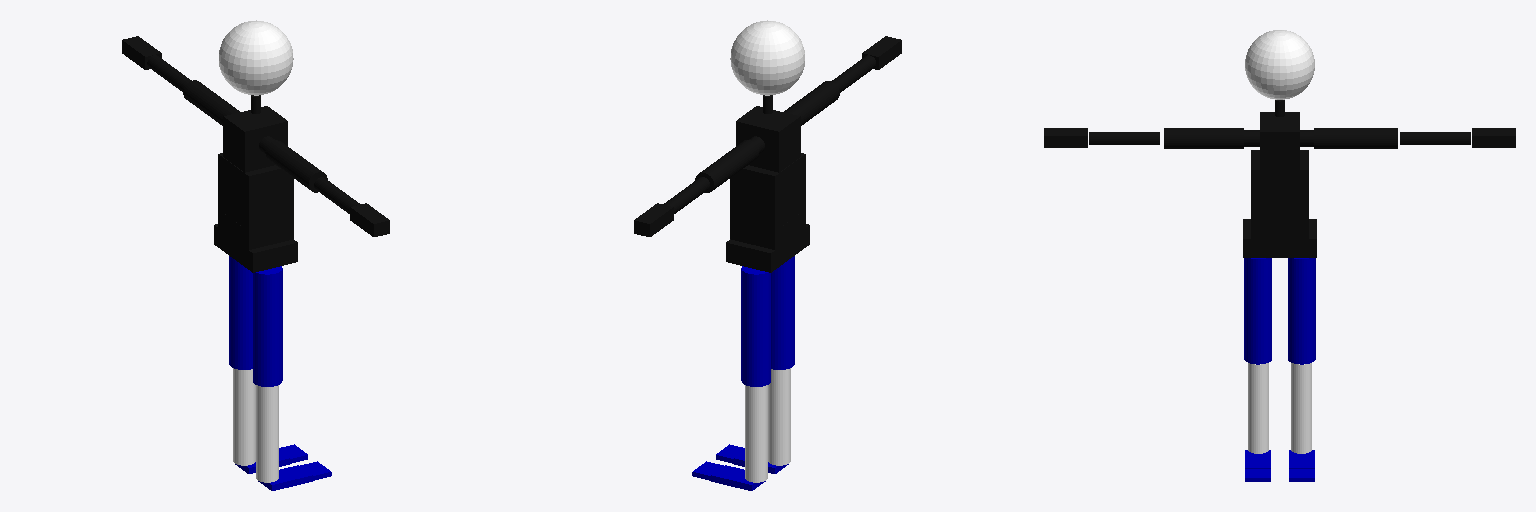
--- Render facts (derived) ---
Views: 3 orthographic renders of the robot side by side, from view 1: azimuth 30°, elevation 25°; view 2: azimuth 150°, elevation 25°; view 3: azimuth 270°, elevation 25°.
Model XSensStyleModel_template with 50 links and 49 joints (48 revolute, 1 fixed), rooted at world, posed every joint at zero.
Links seen in each view (by area): view 1: Head, RightUpperLeg, T8, LeftUpperLeg, T12, RightLowerLeg, LeftLowerLeg, L3, L5, Pelvis, RightUpperArm, LeftUpperArm (+5 smaller); view 2: Head, LeftUpperLeg, T8, RightUpperLeg, T12, LeftLowerLeg, RightLowerLeg, L3, Pelvis, L5, LeftUpperArm, RightUpperArm (+5 smaller); view 3: Head, RightUpperLeg, LeftUpperLeg, T8, T12, RightLowerLeg, LeftLowerLeg, LeftUpperArm, Pelvis, RightUpperArm, L3, RightForeArm (+4 smaller).
Link boxes in pixels (x1,y1,x2,y2): Head: (219, 20, 293, 95); RightUpperLeg: (253, 266, 282, 386); T8: (223, 106, 287, 172); LeftUpperLeg: (229, 256, 252, 369); T12: (218, 153, 293, 204); RightLowerLeg: (256, 385, 278, 482); LeftLowerLeg: (233, 368, 255, 465); L3: (218, 183, 293, 233); L5: (218, 209, 293, 256); Pelvis: (214, 224, 297, 272); RightUpperArm: (265, 140, 327, 192); LeftUpperArm: (183, 80, 239, 125); Head: (730, 20, 804, 95); LeftUpperLeg: (741, 266, 770, 386); T8: (736, 106, 800, 172); RightUpperLeg: (771, 256, 794, 369); T12: (730, 153, 805, 204); LeftLowerLeg: (745, 385, 767, 482); RightLowerLeg: (768, 368, 790, 465); L3: (730, 183, 805, 234); Pelvis: (726, 224, 809, 272); L5: (730, 209, 805, 256); LeftUpperArm: (695, 140, 758, 192); RightUpperArm: (784, 81, 839, 125); Head: (1245, 30, 1314, 99); RightUpperLeg: (1244, 258, 1271, 364); LeftUpperLeg: (1288, 258, 1315, 364); T8: (1260, 112, 1299, 169); T12: (1251, 150, 1308, 196); RightLowerLeg: (1248, 363, 1268, 453); LeftLowerLeg: (1291, 363, 1311, 453); LeftUpperArm: (1314, 128, 1397, 148); Pelvis: (1243, 219, 1316, 257); RightUpperArm: (1164, 128, 1243, 148); L3: (1251, 197, 1308, 224); RightForeArm: (1089, 132, 1159, 144).
Size in the robot's own frame: 0.2748 by 1.34 by 1.33 metres.
Geometry: primitives only (box / cylinder / sphere), no mesh files.

URDF robot description (XSensStyleModel_template):
<!--URDF MODEL 48 DoFs-->

<!-- COTE GAUCHE ET DROITE DU BAS DU CORPS SONT INVERSES (ou pas)!!!! -->

<robot name="XSensStyleModel_template">

<material name="color">
    <color rgba="0.1 0.1 0.1 1"/>
</material>

<material name="blue">
    <color rgba="0 0 0.8 1"/>
</material>

<material name="red_transparency">
     <color rgba="1 0 0 0.5"/>              
</material>

<material name="white">
             <color rgba="1 1 1 1"/>
           </material>
<!--To open this model with Gazebo replace the null masses, inertias and dimensions of the 'fake links f1 and f2'-->

    <!--LINKS-->
    ################### AJOUT DU MONDE #################
    <link name="world"/>
    <joint name="joint_base" type="fixed">
    <origin xyz="0 0 0" rpy="0 0 0"/>
    <parent link="world"/>
    <child link="Pelvis"/>
    </joint>
    ######################################################
	<!--Link base (1)-->
	<link name="Pelvis">
        <inertial>
            <mass value="2.109"/>
			<!--COM origin wrt pHipOrigin-->
            <origin xyz="0           0    0.049743" rpy="0 0 0" />
            <inertia ixx="0.037" iyy="0.0027" izz="0.0045" ixy="0" ixz="0" iyz="0"/>
        </inertial>

        <visual>
			<!--box origin wrt pHipOrigin-->
            <origin xyz="0           0    0.049743" rpy="0 0 0" />
            <geometry>
                <box size="0.13815     0.20914    0.057469"/>
            </geometry>
            <material name="color"/>
        </visual>

        <collision>
			<!--box origin wrt pHipOrigin-->
            <origin xyz="0           0    0.049743" rpy="0 0 0" />
            <geometry>
                <box size="0.13815     0.20914    0.057469"/>
            </geometry>
        </collision>

    </link>
    <!--Chain from (2) to (7)-->
	<link name="L5_f1">
        <inertial>
            <mass value="0"/>
            <origin xyz="0 0 0" rpy="0 0 0" />
            <inertia ixx="0" iyy="0" izz="0" ixy="0" ixz="0" iyz="0"/>
        </inertial>
    </link>
	<link name="L5">
        <inertial>
            <mass value="1.5"/>
			<!--COM origin wrt jL5S1-->
            <origin xyz="0           0    0.047552" rpy="0 0 0" />
            <inertia ixx="0.1118" iyy="0.0715" izz="0.1609" ixy="0" ixz="0" iyz="0"/>
        </inertial>

        <visual>
			<!--box origin origin wrt jL5S1-->
            <origin xyz="0           0    0.047552" rpy="0 0 0" />
            <geometry>
                <box size="0.13815     0.16323    0.075104"/>
            </geometry>
            <material name="color"/>
        </visual>

        <collision>
			<!--box origin origin wrt jL5S1-->
            <origin xyz="0           0    0.047552" rpy="0 0 0" />
            <geometry>
                <box size="0.13815     0.16323    0.075104"/>
            </geometry>
        </collision>
    </link>
	<link name="L3_f1">
        <inertial>
            <mass value="0"/>
            <origin xyz="0 0 0" rpy="0 0 0" />
            <inertia ixx="0" iyy="0" izz="0" ixy="0" ixz="0" iyz="0"/>
        </inertial>
    </link>
	<link name="L3">
        <inertial>
            <mass value="1.5"/>
			<!--COM origin wrt jL4L3-->
            <origin xyz="0           0    0.042958" rpy="0 0 0" />
            <inertia ixx="0.1118" iyy="0.0715" izz="0.1609" ixy="0" ixz="0" iyz="0"/>
        </inertial>

        <visual>
			<!--box origin origin wrt jL4L3-->
            <origin xyz="0           0    0.042958" rpy="0 0 0" />
            <geometry>
                <box size="0.13815     0.16323    0.085916"/>
            </geometry>
            <material name="color"/>
        </visual>

        <collision>
			<!--box origin origin wrt jL4L3-->
            <origin xyz="0           0    0.042958" rpy="0 0 0" />
            <geometry>
                <box size="0.13815     0.16323    0.085916"/>
            </geometry>
        </collision>
    </link>
	<link name="T12_f1">
        <inertial>
            <mass value="0"/>
            <origin xyz="0 0 0" rpy="0 0 0" />
            <inertia ixx="0" iyy="0" izz="0" ixy="0" ixz="0" iyz="0"/>
        </inertial>
    </link>
	<link name="T12">
        <inertial>
            <mass value="1.5"/>
			<!--COM origin wrt jL1T12-->
            <origin xyz="0           0    0.042958" rpy="0 0 0" />
            <inertia ixx="0.1118" iyy="0.0715" izz="0.1609" ixy="0" ixz="0" iyz="0"/>
        </inertial>

        <visual>
			<!--box origin origin wrt jL1T12-->
            <origin xyz="0           0    0.042958" rpy="0 0 0" />
            <geometry>
                <box size="0.13815     0.16323    0.085916"/>
            </geometry>
            <material name="color"/>
        </visual>

        <collision>
			<!--box origin origin wrt jL1T12-->
            <origin xyz="0           0    0.042958" rpy="0 0 0" />
            <geometry>
                <box size="0.13815     0.16323    0.085916"/>
            </geometry>
        </collision>
    </link>
	<link name="T8_f1">
        <inertial>
            <mass value="0"/>
            <origin xyz="0 0 0" rpy="0 0 0" />
            <inertia ixx="0" iyy="0" izz="0" ixy="0" ixz="0" iyz="0"/>
        </inertial>
    </link>
	<link name="T8_f2">
        <inertial>
            <mass value="0"/>
            <origin xyz="0 0 0" rpy="0 0 0" />
            <inertia ixx="0" iyy="0" izz="0" ixy="0" ixz="0" iyz="0"/>
        </inertial>
    </link>
	<link name="T8">
        <inertial>
            <mass value="2.109"/>
			<!--COM origin wrt jT9T8-->
            <origin xyz="0           0    0.059874" rpy="0 0 0" />
            <inertia ixx="0.0037" iyy="0.0029" izz="0.0026" ixy="0" ixz="0" iyz="0"/>
        </inertial>

        <visual>
			<!--box origin wrt jT9T8-->
            <origin xyz="0           0    0.059874" rpy="0 0 0" />
            <geometry>
                <box size="0.13457    0.112626     0.11975"/>
            </geometry>
            <material name="color"/>
        </visual>

        <collision>
			<!--box origin wrt jT9T8-->
            <origin xyz="0           0    0.059874" rpy="0 0 0" />
            <geometry>
                <box size="0.13457    0.112626     0.11975"/>
            </geometry>
        </collision>

    </link>
	<link name="Neck_f1">
        <inertial>
            <mass value="0"/>
            <origin xyz="0 0 0" rpy="0 0 0" />
            <inertia ixx="0" iyy="0" izz="0" ixy="0" ixz="0" iyz="0"/>
        </inertial>
    </link>
	<link name="Neck_f2">
        <inertial>
            <mass value="0"/>
            <origin xyz="0 0 0" rpy="0 0 0" />
            <inertia ixx="0" iyy="0" izz="0" ixy="0" ixz="0" iyz="0"/>
        </inertial>
    </link>
	<link name="Neck">
        <inertial>
            <mass value="0.500"/>
			<!--COM origin wrt jT1C7-->
            <origin xyz="0           0    0.044626" rpy="0 0 0" />
            <inertia ixx="0.0006461" iyy="0.0006461" izz="0.00030124" ixy="0" ixz="0" iyz="0"/>
        </inertial>

        <visual>
			<!--box origin wrt jT1C7-->
            <origin xyz="0           0    0.044626" rpy="0 0 0" />
            <geometry>
		<cylinder length="0.05" radius="0.014205"/>
            </geometry>
            <material name="color"/>
        </visual>

        <collision>
			<!--box origin wrt jT1C7-->
            <origin xyz="0           0    0.044626" rpy="0 0 0" />
            <geometry>
                <cylinder length="0.05" radius="0.014205"/>
            </geometry>
        </collision>
    </link>
	<link name="Head_f1">
        <inertial>
            <mass value="0"/>
            <origin xyz="0 0 0" rpy="0 0 0" />
            <inertia ixx="0" iyy="0" izz="0" ixy="0" ixz="0" iyz="0"/>
        </inertial>
    </link>
	<link name="Head">
        <inertial>
            <mass value="2.47"/>
			<!--COM origin wrt jC1Head-->
            <origin xyz="0           0    0.089005" rpy="0 0 0" />
            <inertia ixx="0.0181" iyy="0.0193" izz="0.0124" ixy="0" ixz="0" iyz="0"/>
        </inertial>

        <visual>
			<!--boc origin wrt jC1Head-->
            <origin xyz="0           0    0.089005" rpy="0 0 0" />
            <geometry>
                <sphere radius="0.1"/>
            </geometry>
            <material name="white"/>
        </visual>

        <collision>
			<!--box origin wrt jC1Head-->
            <origin xyz="0           0    0.089005" rpy="0 0 0" />
            <geometry>
                <sphere radius="0.1"/>
            </geometry>
        </collision>

    </link>
	<!--Chain from (8) to (11)-->
	<link name="RightShoulder">
        <inertial>
            <mass value="0"/>
			<!--COM origin wrt jRightC7Shoulder-->
            <origin xyz="0   -0.065233           0" rpy="0 0 0" />
            <inertia ixx="0.0" iyy="0.0" izz="0.0" ixy="0" ixz="0" iyz="0"/>
        </inertial>

        <visual>
			<!--box origin wrt jRightC7Shoulder. RPY rotated of pi/2.-->
            <origin xyz="0   -0.02          0" rpy="1.5708 0 0" />
            <geometry>
                <cylinder length="0.13047" radius="0.023574"/>
            </geometry>
            <material name="color"/>
        </visual>

        <collision>
			<!--box origin wrt jRightC7Shoulder. RPY rotated of pi/2.-->
            <origin xyz="0   -0.02          0" rpy="1.5708 0 0" />
            <geometry>
                <cylinder length="0.13047" radius="0.023574"/>
            </geometry>
        </collision>

    </link>
	<link name="RightUpperArm_f1">
        <inertial>
            <mass value="0"/>
            <origin xyz="0 0 0" rpy="0 0 0" />
            <inertia ixx="0" iyy="0" izz="0" ixy="0" ixz="0" iyz="0"/>
        </inertial>
    </link>
	<link name="RightUpperArm_f2">
        <inertial>
            <mass value="0"/>
            <origin xyz="0 0 0" rpy="0 0 0" />
            <inertia ixx="0" iyy="0" izz="0" ixy="0" ixz="0" iyz="0"/>
        </inertial>
    </link>
    <link name="RightUpperArm">
        <inertial>
            <mass value="0.638"/>
			<!--COM origin wrt jRightShoulder-->
            <origin xyz="0    -0.09497          0" rpy="0 0 0" />
            <inertia ixx="0.003" iyy="0.003" izz="7.59e-04" ixy="0" ixz="0" iyz="0"/>
        </inertial>

        <visual>
			<!--box origin wrt jRightShoulder. RPY rotated of pi/2.-->
            <origin xyz="0    -0.09497          0" rpy="1.5708 0 0" />
            <geometry>
                <cylinder length="0.23" radius="0.029449"/>
            </geometry>
            <material name="color"/>
        </visual>

        <collision>
			<!--box origin wrt jRightShoulder. RPY rotated of pi/2.-->
            <origin xyz="0    -0.13497           0" rpy="1.5708 0 0" />
            <geometry>
                <cylinder length="0.23" radius="0.029449"/>
            </geometry>
        </collision>

    </link>
	<link name="RightForeArm_f1">
        <inertial>
            <mass value="0"/>
            <origin xyz="0 0 0" rpy="0 0 0" />
            <inertia ixx="0" iyy="0" izz="0" ixy="0" ixz="0" iyz="0"/>
        </inertial>
    </link>
	<link name="RightForeArm">
        <inertial>
            <mass value="0.352"/>
			<!--COM origin wrt jRightElbow-->
            <origin xyz="0    -0.11124           0" rpy="0 0 0" />
            <inertia ixx="0.001" iyy="8.8e-4" izz="2.75e-4" ixy="0" ixz="0" iyz="0"/>
        </inertial>

        <visual>
			<!--box origin wrt jRightElbow. RPY rotated of pi/2.-->
            <origin xyz="0    -0.11124           0" rpy="1.5708 0 0" />
            <geometry>
                <cylinder length="0.20" radius="0.019633"/>
            </geometry>
            <material name="color"/>
        </visual>

        <collision>
			<!--box origin wrt jRightElbow. RPY rotated of pi/2.-->
            <origin xyz="0    -0.11124           0" rpy="1.5708 0 0" />
            <geometry>
                <cylinder length="0.20" radius="0.019633"/>
            </geometry>
        </collision>

    </link>
	<link name="RightHand_f1">
        <inertial>
            <mass value="0"/>
            <origin xyz="0 0 0" rpy="0 0 0" />
            <inertia ixx="0" iyy="0" izz="0" ixy="0" ixz="0" iyz="0"/>
        </inertial>
    </link>
	<link name="RightHand">
        <inertial>
            <mass value="0.176"/>
			<!--COM origin wrt jRightWrist-->
            <origin xyz="0   -0.083588           0" rpy="0 0 0" />
            <inertia ixx="0.0011" iyy="9.57e-4" izz="5.08e-4" ixy="0" ixz="0" iyz="0"/>
        </inertial>

        <visual>
			<!--box origin wrt jRightWrist-->
            <origin xyz="0   -0.083588           0" rpy="0 0 0" />
            <geometry>
                <box size="0.05     0.125    0.039266"/>
            </geometry>
            <material name="color"/>
        </visual>

        <collision>
			<!--box origin wrt jRightWrist-->
            <origin xyz="0   -0.083588           0" rpy="0 0 0" />
            <geometry>
                <box size="0.05     0.125   0.039266"/>
            </geometry>
        </collision>

    </link>
	<!--Chain from (12) to (15)-->
	<link name="LeftShoulder">
        <inertial>
            <mass value="0"/>
			<!--COM origin wrt jLeftC7Shoulder-->
            <origin xyz="0    0.065233           0" rpy="0 0 0" />
            <inertia ixx="0.0" iyy="0.00" izz="0.00" ixy="0" ixz="0" iyz="0"/>
        </inertial>

        <visual>
			<!--box origin wrt jLeftC7Shoulder. RPY rotated of pi/2.-->
            <origin xyz="0    0.02           0" rpy="1.5708 0 0" />
            <geometry>
                <cylinder length="0.13047" radius="0.023574"/>
            </geometry>
            <material name="color"/>
        </visual>

        <collision>
			<!--box origin wrt jLeftC7Shoulder. RPY rotated of pi/2.-->
            <origin xyz="0    0.02          0" rpy="1.5708 0 0" />
            <geometry>
                <cylinder length="0.13047" radius="0.023574"/>
            </geometry>
        </collision>

    </link>
	<link name="LeftUpperArm_f1">
        <inertial>
            <mass value="0"/>
            <origin xyz="0 0 0" rpy="0 0 0" />
            <inertia ixx="0" iyy="0" izz="0" ixy="0" ixz="0" iyz="0"/>
        </inertial>
    </link>
	<link name="LeftUpperArm_f2">
        <inertial>
            <mass value="0"/>
            <origin xyz="0 0 0" rpy="0 0 0" />
            <inertia ixx="0" iyy="0" izz="0" ixy="0" ixz="0" iyz="0"/>
        </inertial>
    </link>
	<link name="LeftUpperArm">
        <inertial>
            <mass value="0.639"/>
			<!--COM origin wrt jLeftShoulder-->
            <origin xyz="0     0.09497           0" rpy="0 0 0" />
            <inertia ixx="0.003" iyy="0.003" izz="7.59e-04" ixy="0" ixz="0" iyz="0"/>
        </inertial>

        <visual>
			<!--box origin wrt jLeftShoulder. RPY rotated of pi/2.-->
            <origin xyz="0     0.09497           0" rpy="1.5708 0 0" />
            <geometry>
                <cylinder length="0.23994" radius="0.029449"/>
            </geometry>
            <material name="color"/>
        </visual>

        <collision>
			<!--box origin wrt jLeftShoulder. RPY rotated of pi/2.-->
            <origin xyz="0     0.13497           0" rpy="1.5708 0 0" />
            <geometry>
                <cylinder length="0.23994" radius="0.029449"/>
            </geometry>
        </collision>

    </link>
	<link name="LeftForeArm_f1">
        <inertial>
            <mass value="0"/>
            <origin xyz="0 0 0" rpy="0 0 0" />
            <inertia ixx="0" iyy="0" izz="0" ixy="0" ixz="0" iyz="0"/>
        </inertial>
    </link>
	<link name="LeftForeArm">
        <inertial>
            <mass value="0.352"/>
			<!--COM origin wrt jLeftElbow-->
            <origin xyz="0     0.11124           0" rpy="0 0 0" />
            <inertia ixx="0.001" iyy="8.8e-4" izz="2.75e-4" ixy="0" ixz="0" iyz="0"/>
        </inertial>

        <visual>
			<!--box origin wrt jLeftElbow. RPY rotated of pi/2.-->
            <origin xyz="0     0.11124           0" rpy="1.5708 0 0" />
            <geometry>
                <cylinder length="0.20247" radius="0.019633"/>
            </geometry>
            <material name="color"/>
        </visual>

        <collision>
			<!--box origin wrt jLeftElbow. RPY rotated of pi/2.-->
            <origin xyz="0     0.11124           0" rpy="1.5708 0 0" />
            <geometry>
                <cylinder length="0.20247" radius="0.019633"/>
            </geometry>
        </collision>

    </link>
	<link name="LeftHand_f1">
        <inertial>
            <mass value="0"/>
            <origin xyz="0 0 0" rpy="0 0 0" />
            <inertia ixx="0" iyy="0" izz="0" ixy="0" ixz="0" iyz="0"/>
        </inertial>
    </link>
	<link name="LeftHand">
        <inertial>
            <mass value="0.176"/>
			<!--COM origin wrt jLeftWrist-->
            <origin xyz="0    0.083588           0" rpy="0 0 0" />
            <inertia ixx="0.0011" iyy="9.57e-4" izz="5.08e-4" ixy="0" ixz="0" iyz="0"/>
        </inertial>

        <visual>
			<!--COM origin wrt jLeftWrist-->
            <origin xyz="0    0.083588           0" rpy="0 0 0" />
            <geometry>
                <box size="0.05     0.125    0.039266"/>
            </geometry>
            <material name="color"/>
        </visual>

        <collision>
			<!--COM origin wrt jLeftWrist-->
            <origin xyz="0    0.083588           0" rpy="0 0 0" />
            <geometry>
                <box size="0.05    0.125    0.039266"/>
            </geometry>
        </collision>

    </link>
	<!--Chain from (16) to (19)-->
	<link name="RightUpperLeg_f1">
        <inertial>
            <mass value="0"/>
            <origin xyz="0 0 0" rpy="0 0 0" />
            <inertia ixx="0" iyy="0" izz="0" ixy="0" ixz="0" iyz="0"/>
        </inertial>
    </link>
	<link name="RightUpperLeg_f2">
        <inertial>
            <mass value="0"/>
            <origin xyz="0 0 0" rpy="0 0 0" />
            <inertia ixx="0" iyy="0" izz="0" ixy="0" ixz="0" iyz="0"/>
        </inertial>
    </link>
    <link name="RightUpperLeg">
        <inertial>
            <mass value="1.98"/>
			<!--COM origin wrt jRightHip-->
            <origin xyz="0           0    -0.16449" rpy="0 0 0" />
            <inertia ixx="0.0207" iyy="0.0221" izz="0.0078" ixy="0" ixz="0" iyz="0"/>
        </inertial>

        <visual>
			<!--box origin wrt jRightHip-->
            <origin xyz="0           0.02    -0.16449" rpy="0 0 0" />
            <geometry>
                <cylinder length="0.33" radius="0.04"/>
            </geometry>
            <material name="blue"/>
        </visual>

        <collision>
			<!--box origin wrt jRightHip-->
            <origin xyz="0           0.02   -0.16449" rpy="0 0 0" />
            <geometry>
                <cylinder length="0.33" radius="0.04"/>
            </geometry>
        </collision>

    </link>
	<link name="RightLowerLeg_f1">
        <inertial>
            <mass value="1.078"/>
            <origin xyz="0 0 0" rpy="0 0 0" />
            <inertia ixx="0" iyy="0" izz="0" ixy="0" ixz="0" iyz="0"/>
        </inertial>
    </link>
    <link name="RightLowerLeg">
        <inertial>
            <mass value="2.2703"/>
			<!--COM origin wrt jRightKnee-->
            <origin xyz="0           0    -0.14449" rpy="0 0 0" />
            <inertia ixx="0.0066" iyy="0.0066" izz="8.45e-4" ixy="0" ixz="0" iyz="0"/>
        </inertial>

        <visual>
			<!--box origin wrt jRightKnee-->
            <origin xyz="0           0.02    -0.14449" rpy="0 0 0" />
            <geometry>
                <cylinder length="0.28" radius="0.03"/>
            </geometry>
             <material name="white">
              <color rgba="1 1 1 1"/>
           </material>
        </visual>

        <collision>
			<!--box origin wrt jRightKnee-->
            <origin xyz="0           0.02    -0.14449" rpy="0 0 0" />
            <geometry>
                <cylinder length="0.28" radius="0.03"/>
            </geometry>
        </collision>

    </link>
	<link name="RightFoot_f1">
        <inertial>
            <mass value="0"/>
            <origin xyz="0 0 0" rpy="0 0 0" />
            <inertia ixx="0" iyy="0" izz="0" ixy="0" ixz="0" iyz="0"/>
        </inertial>
    </link>
	<link name="RightFoot_f2">
        <inertial>
            <mass value="0"/>
            <origin xyz="0 0 0" rpy="0 0 0" />
            <inertia ixx="0" iyy="0" izz="0" ixy="0" ixz="0" iyz="0"/>
        </inertial>
    </link>
    <link name="RightFoot">
        <inertial>
            <mass value="0.44"/>
			<!--COM origin wrt jRightAnkle-->
            <origin xyz="0.054652           0   -0.028254" rpy="0 0 0" />
            <inertia ixx="0.001" iyy="0.0044" izz="0.0044" ixy="0" ixz="0" iyz="0"/>
        </inertial>

        <visual>
			<!--box origin wrt jRightAnkle-->
	    	<origin xyz="0.054652           0.02   -0.028254" rpy="0 0 0" />
            <geometry>
                <box size="0.125    0.074775    0.018509"/>
            </geometry>
            <material name="blue"/>
        </visual>

        <collision>
			<!--box origin wrt jRightAnkle-->
		    <origin xyz="0.054652           0.02   -0.028254" rpy="0 0 0" />
	            <geometry>
	                <box size="0.125    0.074775    0.018509"/>
	            </geometry>
        </collision>

    </link>
    <link name="RightToe">
        <inertial>
            <mass value="0.01"/>
			<!--COM origin wrt jRightBallFoot-->
            <origin xyz="0.030086           0           +0.012" rpy="0 0 0" />
            <inertia ixx="4.5038e-05" iyy="2.9717e-05" izz="7.1624e-05" ixy="0" ixz="0" iyz="0"/>
        </inertial>

        <visual>
			<!--box origin wrt jRightBallFoot-->
            <origin xyz="0.030086           0.02           +0.012" rpy="0 0 0" />
            <geometry>
                <box size="0.060173    0.074775    0.014191"/>
            </geometry>
            <material name="blue"/>
        </visual>

        <collision>
			<!--box origin wrt jRightBallFoot-->
            <origin xyz="0.030086           0.02           +0.012" rpy="0 0 0" />
            <geometry>
                <box size="0.060173    0.074775    0.014191"/>
            </geometry>
        </collision>
    </link>
	<!--Chain from (20) to (23)-->
	<link name="LeftUpperLeg_f1">
        <inertial>
            <mass value="0"/>
            <origin xyz="0 0 0" rpy="0 0 0" />
            <inertia ixx="0" iyy="0" izz="0" ixy="0" ixz="0" iyz="0"/>
        </inertial>
    </link>
	<link name="LeftUpperLeg_f2">
        <inertial>
            <mass value="0"/>
            <origin xyz="0 0 0" rpy="0 0 0" />
            <inertia ixx="0" iyy="0" izz="0" ixy="0" ixz="0" iyz="0"/>
        </inertial>
    </link>
    <link name="LeftUpperLeg">
        <inertial>
            <mass value="1.98"/>
			<!--COM origin wrt jLeftHip-->
            <origin xyz="0           0    -0.16449" rpy="0 0 0" />
            <inertia ixx="0.0207" iyy="0.0221" izz="0.0078" ixy="0" ixz="0" iyz="0"/>
        </inertial>

        <visual>
			<!--box origin wrt jLeftHip-->
            <origin xyz="0           -.02    -0.16449" rpy="0 0 0" />
            <geometry>
                <cylinder length="0.33" radius="0.04"/>
            </geometry>
            <material name="blue"/>
        </visual>

        <collision>
			<!--box origin wrt jLeftHip-->
            <origin xyz="0           -.02    -0.16449" rpy="0 0 0" />
            <geometry>
                <cylinder length="0.33" radius="0.04"/>
            </geometry>
        </collision>

    </link>
	<link name="LeftLowerLeg_f1">
        <inertial>
            <mass value="0"/>
            <origin xyz="0 0 0" rpy="0 0 0" />
            <inertia ixx="0" iyy="0" izz="0" ixy="0" ixz="0" iyz="0"/>
        </inertial>
    </link>
	<link name="LeftLowerLeg">
        <inertial>
            <mass value="1.078"/>
			<!--COM origin wrt jLeftKnee-->
            <origin xyz="0           0    -0.14449" rpy="0 0 0" />
            <inertia ixx="0.0066" iyy="0.0066" izz="8.45e-4" ixy="0" ixz="0" iyz="0"/>
        </inertial>

        <visual>
			<!--box origin wrt jLeftKnee-->
            <origin xyz="0           -.02    -0.14449" rpy="0 0 0" />
            <geometry>
		<cylinder length="0.28" radius="0.03"/>
            </geometry>
            <material name="white"/>
        </visual>

        <collision>
			<!--box origin wrt jLeftKnee-->
            <origin xyz="0           -.02    -0.14449" rpy="0 0 0" />
            <geometry>
		<cylinder length="0.28" radius="0.03"/>
            </geometry>
        </collision>

    </link>
	<link name="LeftFoot_f1">
        <inertial>
            <mass value="0"/>
            <origin xyz="0 0 0" rpy="0 0 0" />
            <inertia ixx="0" iyy="0" izz="0" ixy="0" ixz="0" iyz="0"/>
        </inertial>
    </link>
	<link name="LeftFoot_f2">
        <inertial>
            <mass value="0"/>
            <origin xyz="0 0 0" rpy="0 0 0" />
            <inertia ixx="0" iyy="0" izz="0" ixy="0" ixz="0" iyz="0"/>
        </inertial>
    </link>
    <link name="LeftFoot">
        <inertial>
            <mass value="0.44"/>
			<!--COM origin wrt jLeftAnkle-->
            <origin xyz="0.054652           0   -0.028254" rpy="0 0 0" />
            <inertia ixx="0.001" iyy="0.0044" izz="0.0044" ixy="0" ixz="0" iyz="0"/>
        </inertial>

        <visual>
			<!--box origin wrt jLeftAnkle-->
	   	 	<origin xyz="0.054652           -.02   -0.028254" rpy="0 0 0" />
            <geometry>
                <box size="0.125    0.074775    0.018509"/>
            </geometry>
            <material name="blue"/>
        </visual>

        <collision>
			<!--box origin wrt jLeftAnkle-->
		    <origin xyz="0.054652           -.02   -0.028254" rpy="0 0 0" />
	            <geometry>
	                <box size="0.125    0.074775    0.018509"/>
	            </geometry>
        </collision>

    </link>
	<link name="LeftToe">
        <inertial>
            <mass value="0.01"/>
			<!--COM origin wrt jLeftBallFoot-->
            <origin xyz="0.030086           0           +0.012" rpy="0 0 0" />
            <inertia ixx="4.5038e-05" iyy="2.9717e-05" izz="7.1624e-05" ixy="0" ixz="0" iyz="0"/>
        </inertial>

        <visual>
			<!--box origin wrt jLeftBallFoot-->
            <origin xyz="0.030086           -.02           +0.012" rpy="0 0 0" />
            <geometry>
                <box size="0.060173    0.074775    0.014191"/>
            </geometry>
            <material name="blue"/>
        </visual>

        <collision>
			<!--box origin wrt jLeftBallFoot-->
            <origin xyz="0.030086           -.02           +0.012" rpy="0 0 0" />
            <geometry>
                <box size="0.060173    0.074775    0.014191"/>
            </geometry>
        </collision>
    </link>


	<!--JOINTS-->
	<!--Chain from (2) to (7)-->
	<joint name="jL5S1_rotx" type="revolute">
        <origin xyz="-0.000206           0    0.048478" rpy="0 0 0"/>
        <parent link="Pelvis"/>
        <child link="L5_f1"/>
        <dynamics damping="0.1" friction="0.0"/>
        <limit effort="30" velocity="1.0" lower="-0.610865" upper="0.610865" />
        <axis xyz="1 0 0" />
    </joint>
	<joint name="jL5S1_roty" type="revolute">
        <origin xyz="0 0 0" rpy="0 0 0"/>
        <parent link="L5_f1"/>
        <child link="L5"/>
        <dynamics damping="0.1" friction="0.0"/>
        <limit effort="30" velocity="1.0" lower="-0.523599" upper="1.309" />
        <axis xyz="0 1 0" />
    </joint>
	<joint name="jL4L3_rotx" type="revolute">
        <origin xyz="0.000374           0    0.075104" rpy="0 0 0"/>
        <parent link="L5"/>
        <child link="L3_f1"/>
        <dynamics damping="0.1" friction="0.0"/>
        <limit effort="30" velocity="1.0" lower="-0.610865" upper="0.610865" />
        <axis xyz="1 0 0" />
    </joint>
	<joint name="jL4L3_roty" type="revolute">
        <origin xyz="0 0 0" rpy="0 0 0"/>
        <parent link="L3_f1"/>
        <child link="L3"/>
        <dynamics damping="0.1" friction="0.0"/>
        <limit effort="30" velocity="1.0" lower="-0.523599" upper="1.309" />
        <axis xyz="0 1 0" />
    </joint>
	<joint name="jL1T12_rotx" type="revolute">
        <origin xyz="0           0    0.085916" rpy="0 0 0"/>
        <parent link="L3"/>
        <child link="T12_f1"/>
        <dynamics damping="0.1" friction="0.0"/>
        <limit effort="30" velocity="1.0" lower="-0.610865" upper="0.610865" />
        <axis xyz="1 0 0" />
    </joint>
	<joint name="jL1T12_roty" type="revolute">
        <origin xyz="0 0 0" rpy="0 0 0"/>
        <parent link="T12_f1"/>
        <child link="T12"/>
        <dynamics damping="0.1" friction="0.0"/>
        <limit effort="30" velocity="1.0" lower="-0.523599" upper="1.309" />
        <axis xyz="0 1 0" />
    </joint>
	<joint name="jT9T8_rotx" type="revolute">
        <origin xyz="0           0    0.085916" rpy="0 0 0"/>
        <parent link="T12"/>
        <child link="T8_f1"/>
        <dynamics damping="0.1" friction="0.0"/>
        <limit effort="30" velocity="1.0" lower="-0.349066" upper="0.349066" />
        <axis xyz="1 0 0" />
    </joint>
	<joint name="jT9T8_roty" type="revolute">
        <origin xyz="0 0 0" rpy="0 0 0"/>
        <parent link="T8_f1"/>
        <child link="T8_f2"/>
        <dynamics damping="0.1" friction="0.0"/>
        <limit effort="30" velocity="1.0" lower="-0.261799" upper="0.698132" />
        <axis xyz="0 1 0" />
    </joint>
    <joint name="jT9T8_rotz" type="revolute">
        <origin xyz="0 0 0" rpy="0 0 0"/>
        <parent link="T8_f2"/>
        <child link="T8"/>
        <dynamics damping="0.1" friction="0.0"/>
        <limit effort="30" velocity="1.0" lower="-0.610865" upper="0.610865" />
        <axis xyz="0 0 1" />
    </joint>
	<joint name="jT1C7_rotx" type="revolute">
        <origin xyz="0           0     0.11975" rpy="0 0 0"/>
        <parent link="T8"/>
        <child link="Neck_f1"/>
        <dynamics damping="0.1" friction="0.0"/>
        <limit effort="30" velocity="1.0" lower="-0.610865" upper="0.610865" />
        <axis xyz="1 0 0" />
    </joint>
	<joint name="jT1C7_roty" type="revolute">
        <origin xyz="0 0 0" rpy="0 0 0"/>
        <parent link="Neck_f1"/>
        <child link="Neck_f2"/>
        <dynamics damping="0.1" friction="0.0"/>
        <limit effort="30" velocity="1.0" lower="-0.959931" upper="1.5708" />
        <axis xyz="0 1 0" />
    </joint>
    <joint name="jT1C7_rotz" type="revolute">
        <origin xyz="0 0 0" rpy="0 0 0"/>
        <parent link="Neck_f2"/>
        <child link="Neck"/>
        <dynamics damping="0.1" friction="0.0"/>
        <limit effort="30" velocity="1.0" lower="-1.22173" upper="1.22173" />
        <axis xyz="0 0 1" />
    </joint>
	<joint name="jC1Head_rotx" type="revolute">
        <origin xyz="0.000152           0    0.089252" rpy="0 0 0"/>
        <parent link="Neck"/>
        <child link="Head_f1"/>
        <dynamics damping="0.1" friction="0.0"/>
        <limit effort="30" velocity="1.0" lower="-0.610865" upper="0.610865" />
        <axis xyz="1 0 0" />
    </joint>
	<joint name="jC1Head_roty" type="revolute">
        <origin xyz="0 0 0" rpy="0 0 0"/>
        <parent link="Head_f1"/>
        <child link="Head"/>
        <dynamics damping="0.1" friction="0.0"/>
        <limit effort="30" velocity="1.0" lower="-0.436332" upper="0.174533" />
        <axis xyz="0 1 0" />
    </joint>
	<!--Chain from (8) to (11)-->
	<joint name="jRightC7Shoulder_rotx" type="revolute">
        <origin xyz="0   -0.026313    0.067052" rpy="0 0 0"/>
        <parent link="T8"/>
        <child link="RightShoulder"/>
        <dynamics damping="0.1" friction="0.0"/>
        <limit effort="30" velocity="1.0" lower="-0.785398" upper="0.0872665" />
        <axis xyz="1 0 0" />
    </joint>
	<joint name="jRightShoulder_rotx" type="revolute">
        <origin xyz="0    -0.09497          0" rpy="0 0 0"/>
        <parent link="RightShoulder"/>
        <child link="RightUpperArm_f1"/>
        <dynamics damping="0.1" friction="0.0"/>
        <limit effort="30" velocity="1.0" lower="-2.35619" upper="1.5708" />
        <axis xyz="1 0 0" />
    </joint>
	<joint name="jRightShoulder_roty" type="revolute">
        <origin xyz="0 0 0" rpy="0 0 0"/>
        <parent link="RightUpperArm_f1"/>
        <child link="RightUpperArm_f2"/>
        <dynamics damping="0.1" friction="0.0"/>
        <limit effort="30" velocity="1.0" lower="-1.5708" upper="1.5708" />
        <axis xyz="0 1 0" />
    </joint>
    <joint name="jRightShoulder_rotz" type="revolute">
        <origin xyz="0 0 0" rpy="0 0 0"/>
        <parent link="RightUpperArm_f2"/>
        <child link="RightUpperArm"/>
        <dynamics damping="0.1" friction="0.0"/>
        <limit effort="30" velocity="1.0" lower="-0.785398" upper="3.14159" />
        <axis xyz="0 0 1" />
    </joint>
	<joint name="jRightElbow_roty" type="revolute">
        <origin xyz="0    -0.20994           0" rpy="0 0 0"/>
        <parent link="RightUpperArm"/>
        <child link="RightForeArm_f1"/>
        <dynamics damping="0.1" friction="0.0"/>
        <limit effort="30" velocity="1.0" lower="-1.5708" upper="1.48353" />
        <axis xyz="0 1 0" />
    </joint>
	<joint name="jRightElbow_rotz" type="revolute">
        <origin xyz="0 0 0" rpy="0 0 0"/>
        <parent link="RightForeArm_f1"/>
        <child link="RightForeArm"/>
        <dynamics damping="0.1" friction="0.0"/>
        <limit effort="30" velocity="1.0" lower="0" upper="2.53073" />
        <axis xyz="0 0 1" />
    </joint>
	<joint name="jRightWrist_rotx" type="revolute">
        <origin xyz="7.7e-05    -0.19247           0" rpy="0 0 0"/>
        <parent link="RightForeArm"/>
        <child link="RightHand_f1"/>
        <dynamics damping="0.1" friction="0.0"/>
        <limit effort="30" velocity="1.0" lower="-0.872665" upper="1.0472" />
        <axis xyz="1 0 0" />
    </joint>
	<joint name="jRightWrist_rotz" type="revolute">
        <origin xyz="0 0 0" rpy="0 0 0"/>
        <parent link="RightHand_f1"/>
        <child link="RightHand"/>
        <dynamics damping="0.1" friction="0.0"/>
        <limit effort="30" velocity="1.0" lower="-0.523599" upper="0.349066" />
        <axis xyz="0 0 1" />
    </joint>
	<!--Chain from (12) to (15)-->
	<joint name="jLeftC7Shoulder_rotx" type="revolute">
        <origin xyz="0    0.026313    0.067052" rpy="0 0 0"/>
        <parent link="T8"/>
        <child link="LeftShoulder"/>
        <dynamics damping="0.1" friction="0.0"/>
        <limit effort="30" velocity="1.0" lower="-0.0872665" upper="0.785398" />
        <axis xyz="1 0 0" />
    </joint>
	<joint name="jLeftShoulder_rotx" type="revolute">
        <origin xyz="0     0.09497           0" rpy="0 0 0"/>
        <parent link="LeftShoulder"/>
        <child link="LeftUpperArm_f1"/>
        <dynamics damping="0.1" friction="0.0"/>
        <limit effort="30" velocity="1.0" lower="-1.5708" upper="2.35619" />
        <axis xyz="1 0 0" />
    </joint>
	<joint name="jLeftShoulder_roty" type="revolute">
        <origin xyz="0 0 0" rpy="0 0 0"/>
        <parent link="LeftUpperArm_f1"/>
        <child link="LeftUpperArm_f2"/>
        <dynamics damping="0.1" friction="0.0"/>
        <limit effort="30" velocity="1.0" lower="-1.5708" upper="1.5708" />
        <axis xyz="0 1 0" />
    </joint>
    <joint name="jLeftShoulder_rotz" type="revolute">
        <origin xyz="0 0 0" rpy="0 0 0"/>
        <parent link="LeftUpperArm_f2"/>
        <child link="LeftUpperArm"/>
        <dynamics damping="0.1" friction="0.0"/>
        <limit effort="30" velocity="1.0" lower="-3.14159" upper="0.785398" />
        <axis xyz="0 0 1" />
    </joint>
    <joint name="jLeftElbow_roty" type="revolute">
        <origin xyz="0     0.20994           0" rpy="0 0 0"/>
        <parent link="LeftUpperArm"/>
        <child link="LeftForeArm_f1"/>
        <dynamics damping="0.1" friction="0.0"/>
        <limit effort="30" velocity="1.0" lower="-1.5708" upper="1.48353" />
        <axis xyz="0 1 0" />
    </joint>
    <joint name="jLeftElbow_rotz" type="revolute">
        <origin xyz="0 0 0" rpy="0 0 0"/>
        <parent link="LeftForeArm_f1"/>
        <child link="LeftForeArm"/>
        <dynamics damping="0.1" friction="0.0"/>
        <limit effort="30" velocity="1.0" lower="-2.53073" upper="0" />
        <axis xyz="0 0 1" />
    </joint>
	<joint name="jLeftWrist_rotx" type="revolute">
        <origin xyz="7.7e-05     0.19247           0" rpy="0 0 0"/>
        <parent link="LeftForeArm"/>
        <child link="LeftHand_f1"/>
        <dynamics damping="0.1" friction="0.0"/>
        <limit effort="30" velocity="1.0" lower="-1.0472" upper="0.872665" />
        <axis xyz="1 0 0" />
    </joint>
	<joint name="jLeftWrist_rotz" type="revolute">
        <origin xyz="0 0 0" rpy="0 0 0"/>
        <parent link="LeftHand_f1"/>
        <child link="LeftHand"/>
        <dynamics damping="0.1" friction="0.0"/>
        <limit effort="30" velocity="1.0" lower="-0.349066" upper="0.523599" />
        <axis xyz="0 0 1" />
    </joint>
	<!--Chain from (16) to (19)-->
	<joint name="jRightHip_rotx" type="revolute">
        <origin xyz="0.000103   -0.081614    0.001009" rpy="0 0 0"/>
        <parent link="Pelvis"/>
        <child link="RightUpperLeg_f1"/>
        <dynamics damping="0.1" friction="0.0"/>
        <limit effort="10000000" velocity="100000" lower="-100000" upper="10000" />
        <axis xyz="1 0 0" />
    </joint>
	<joint name="jRightHip_roty" type="revolute">
        <origin xyz="0 0 0" rpy="0 0 0"/>
        <parent link="RightUpperLeg_f1"/>
        <child link="RightUpperLeg_f2"/>
        <dynamics damping="0.1" friction="0.0"/>
        <limit effort="10000000" velocity="100000" lower="-100000" upper="10000" />
        <axis xyz="0 1 0" />
    </joint>
    <joint name="jRightHip_rotz" type="revolute">
        <origin xyz="0 0 0" rpy="0 0 0"/>
        <parent link="RightUpperLeg_f2"/>
        <child link="RightUpperLeg"/>
        <dynamics damping="0.1" friction="0.0"/>
        <limit effort="10000000" velocity="100000" lower="-100000" upper="10000" />
        <axis xyz="0 0 1" />
    </joint>
	<joint name="jRightKnee_roty" type="revolute">
        <origin xyz="3.6e-05           0    -0.33" rpy="0 0 0"/>
        <parent link="RightUpperLeg"/>
        <child link="RightLowerLeg_f1"/>
        <dynamics damping="0.1" friction="0.0"/>
        <limit effort="10000000" velocity="100000" lower="-100000" upper="10000" />
        <axis xyz="0 1 0" />
    </joint>
	<joint name="jRightKnee_rotz" type="revolute">
        <origin xyz="0 0 0" rpy="0 0 0"/>
        <parent link="RightLowerLeg_f1"/>
        <child link="RightLowerLeg"/>
        <dynamics damping="0.1" friction="0.0"/>
        <limit effort="10000000" velocity="100000" lower="-100000" upper="10000" />
        <axis xyz="0 0 1" />
    </joint>
	<joint name="jRightAnkle_rotx" type="revolute">
        <origin xyz="0.000205           0    -0.27" rpy="0 0 0"/>
        <parent link="RightLowerLeg"/>
        <child link="RightFoot_f1"/>
        <dynamics damping="0.1" friction="0.0"/>
        <limit effort="10000000" velocity="100000" lower="-100000" upper="10000" />
        <axis xyz="1 0 0" />
    </joint>
	<joint name="jRightAnkle_roty" type="revolute">
        <origin xyz="0 0 0" rpy="0 0 0"/>
        <parent link="RightFoot_f1"/>
        <child link="RightFoot_f2"/>
        <dynamics damping="0.1" friction="0.0"/>
        <limit effort="10000000" velocity="100000" lower="-100000" upper="10000" />
        <axis xyz="0 1 0" />
    </joint>
    <joint name="jRightAnkle_rotz" type="revolute">
        <origin xyz="0 0 0" rpy="0 0 0"/>
        <parent link="RightFoot_f2"/>
        <child link="RightFoot"/>
        <dynamics damping="0.1" friction="0.0"/>
        <limit effort="10000000" velocity="100000" lower="-100000" upper="10000" />
        <axis xyz="0 0 1" />
    </joint>
	<joint name="jRightBallFoot_roty" type="revolute">
        <origin xyz="0.11456           0   -0.040752" rpy="0 0 0"/>
        <parent link="RightFoot"/>
        <child link="RightToe"/>
        <dynamics damping="0.1" friction="0.0"/>
        <limit effort="10000000" velocity="100000" lower="-100000" upper="10000" />
        <axis xyz="0 1 0" />
    </joint>
	<!--Chain from (20) to (23)-->
	<joint name="jLeftHip_rotx" type="revolute">
        <origin xyz="0.000103    0.081614    0.001009" rpy="0 0 0"/>
        <parent link="Pelvis"/>
        <child link="LeftUpperLeg_f1"/>
        <dynamics damping="0.1" friction="0.0"/>
        <limit effort="10000000" velocity="100000" lower="-100000" upper="10000" />
        <axis xyz="1 0 0" />
    </joint>
	<joint name="jLeftHip_roty" type="revolute">
        <origin xyz="0 0 0" rpy="0 0 0"/>
        <parent link="LeftUpperLeg_f1"/>
        <child link="LeftUpperLeg_f2"/>
        <dynamics damping="0.1" friction="0.0"/>
        <limit effort="10000000" velocity="100000" lower="-100000" upper="10000" />
        <axis xyz="0 1 0" />
    </joint>
    <joint name="jLeftHip_rotz" type="revolute">
        <origin xyz="0 0 0" rpy="0 0 0"/>
        <parent link="LeftUpperLeg_f2"/>
        <child link="LeftUpperLeg"/>
        <dynamics damping="0.1" friction="0.0"/>
        <limit effort="10000000" velocity="100000" lower="-100000" upper="10000" />
        <axis xyz="0 0 1" />
    </joint>
	<joint name="jLeftKnee_roty" type="revolute">
        <origin xyz="3.6e-05           0    -0.33" rpy="0 0 0"/>
        <parent link="LeftUpperLeg"/>
        <child link="LeftLowerLeg_f1"/>
        <dynamics damping="0.1" friction="0.0"/>
        <limit effort="10000000" velocity="100000" lower="-100000" upper="10000" />
        <axis xyz="0 1 0" />
    </joint>
    <joint name="jLeftKnee_rotz" type="revolute">
        <origin xyz="0 0 0" rpy="0 0 0"/>
        <parent link="LeftLowerLeg_f1"/>
        <child link="LeftLowerLeg"/>
        <dynamics damping="0.1" friction="0.0"/>
        <limit effort="10000000" velocity="100000" lower="-100000" upper="10000" />
        <axis xyz="0 0 1" />
    </joint>
	<joint name="jLeftAnkle_rotx" type="revolute">
        <origin xyz="0.000205           0    -0.27" rpy="0 0 0"/>
        <parent link="LeftLowerLeg"/>
        <child link="LeftFoot_f1"/>
        <dynamics damping="0.1" friction="0.0"/>
        <limit effort="10000000" velocity="100000" lower="-100000" upper="10000" />
        <axis xyz="1 0 0" />
    </joint>
	<joint name="jLeftAnkle_roty" type="revolute">
        <origin xyz="0 0 0" rpy="0 0 0"/>
        <parent link="LeftFoot_f1"/>
        <child link="LeftFoot_f2"/>
        <dynamics damping="0.1" friction="0.0"/>
        <limit effort="10000000" velocity="100000" lower="-100000" upper="10000" />
        <axis xyz="0 1 0" />
    </joint>
    <joint name="jLeftAnkle_rotz" type="revolute">
        <origin xyz="0 0 0" rpy="0 0 0"/>
        <parent link="LeftFoot_f2"/>
        <child link="LeftFoot"/>
        <dynamics damping="0.1" friction="0.0"/>
        <limit effort="10000000" velocity="100000" lower="-100000" upper="10000" />
        <axis xyz="0 0 1" />
    </joint>
	<joint name="jLeftBallFoot_roty" type="revolute">
        <origin xyz="0.11456           0   -0.040752" rpy="0 0 0"/>
        <parent link="LeftFoot"/>
        <child link="LeftToe"/>
        <dynamics damping="0.1" friction="0.0"/>
        <limit effort="10000000" velocity="100000" lower="-100000" upper="10000" />
        <axis xyz="0 1 0" />
    </joint>

	<!-- Sensor  1-->
<sensor name="Pelvis_gyro" type="gyroscope">
<parent link="Pelvis"/>
<origin xyz="-0.056756 -5.6944e-06    0.097055" rpy="-0.3247     0.95826      2.4984"/>
</sensor>
<sensor name="Pelvis_accelerometer" type="accelerometer">
<parent link="Pelvis"/>
<origin xyz="-0.056756 -5.6944e-06    0.097055" rpy="-0.3247     0.95826      2.4984"/>
</sensor>
<!-- Sensor  2-->
<sensor name="T8_gyro" type="gyroscope">
<parent link="T8"/>
<origin xyz="0.1256  2.9265e-07    0.069079" rpy="0.054662      1.1921    0.026605"/>
</sensor>
<sensor name="T8_accelerometer" type="accelerometer">
<parent link="T8"/>
<origin xyz="0.1256  2.9265e-07    0.069079" rpy="0.054662      1.1921    0.026605"/>
</sensor>
<!-- Sensor  3-->
<sensor name="Head_gyro" type="gyroscope">
<parent link="Head"/>
<origin xyz="-0.069574  4.0118e-07    0.076475" rpy="2.3602    0.029132     -1.6926"/>
</sensor>
<sensor name="Head_accelerometer" type="accelerometer">
<parent link="Head"/>
<origin xyz="-0.069574  4.0118e-07    0.076475" rpy="2.3602    0.029132     -1.6926"/>
</sensor>
<!-- Sensor  4-->
<sensor name="RightShoulder_gyro" type="gyroscope">
<parent link="RightShoulder"/>
<origin xyz="-0.018859   -0.047148   -0.056578" rpy="1.3372    -0.28335     -1.4594"/>
</sensor>
<sensor name="RightShoulder_accelerometer" type="accelerometer">
<parent link="RightShoulder"/>
<origin xyz="-0.018859   -0.047148   -0.056578" rpy="1.3372    -0.28335     -1.4594"/>
</sensor>
<!-- Sensor  5-->
<sensor name="RightUpperArm_gyro" type="gyroscope">
<parent link="RightUpperArm"/>
<origin xyz="-0.018123   -0.090613    0.018123" rpy="-0.15226    0.030142     -1.5884"/>
</sensor>
<sensor name="RightUpperArm_accelerometer" type="accelerometer">
<parent link="RightUpperArm"/>
<origin xyz="-0.018123   -0.090613    0.018123" rpy="-0.15226    0.030142     -1.5884"/>
</sensor>
<!-- Sensor  6-->
<sensor name="RightForeArm_gyro" type="gyroscope">
<parent link="RightForeArm"/>
<origin xyz="0.0016793    -0.18323      0.0183" rpy="-1.1132    0.015024     -1.2543"/>
</sensor>
<sensor name="RightForeArm_accelerometer" type="accelerometer">
<parent link="RightForeArm"/>
<origin xyz="0.0016793    -0.18323      0.0183" rpy="-1.1132    0.015024     -1.2543"/>
</sensor>
<!-- Sensor  7-->
<sensor name="RightHand_gyro" type="gyroscope">
<parent link="RightHand"/>
<origin xyz="-3.4565e-08   -0.050814    0.018478" rpy="-0.69083   -0.053849     -1.4329"/>
</sensor>
<sensor name="RightHand_accelerometer" type="accelerometer">
<parent link="RightHand"/>
<origin xyz="-3.4565e-08   -0.050814    0.018478" rpy="-0.69083   -0.053849     -1.4329"/>
</sensor>
<!-- Sensor  8-->
<sensor name="LeftShoulder_gyro" type="gyroscope">
<parent link="LeftShoulder"/>
<origin xyz="-0.018859    0.047148   -0.056578" rpy="-1.1487    -0.34419      1.3655"/>
</sensor>
<sensor name="LeftShoulder_accelerometer" type="accelerometer">
<parent link="LeftShoulder"/>
<origin xyz="-0.018859    0.047148   -0.056578" rpy="-1.1487    -0.34419      1.3655"/>
</sensor>
<!-- Sensor  9-->
<sensor name="LeftUpperArm_gyro" type="gyroscope">
<parent link="LeftUpperArm"/>
<origin xyz="-0.018123    0.090613    0.018123" rpy="0.094373   -0.042991      1.6861"/>
</sensor>
<sensor name="LeftUpperArm_accelerometer" type="accelerometer">
<parent link="LeftUpperArm"/>
<origin xyz="-0.018123    0.090613    0.018123" rpy="0.094373   -0.042991      1.6861"/>
</sensor>
<!-- Sensor  10-->
<sensor name="LeftForeArm_gyro" type="gyroscope">
<parent link="LeftForeArm"/>
<origin xyz="0.0016791     0.18323    0.018301" rpy="0.90429     0.18107      1.1351"/>
</sensor>
<sensor name="LeftForeArm_accelerometer" type="accelerometer">
<parent link="LeftForeArm"/>
<origin xyz="0.0016791     0.18323    0.018301" rpy="0.90429     0.18107      1.1351"/>
</sensor>
<!-- Sensor  11-->
<sensor name="LeftHand_gyro" type="gyroscope">
<parent link="LeftHand"/>
<origin xyz="1.1198e-08    0.050814    0.018478" rpy="1.2175   -0.077786      1.3837"/>
</sensor>
<sensor name="LeftHand_accelerometer" type="accelerometer">
<parent link="LeftHand"/>
<origin xyz="1.1198e-08    0.050814    0.018478" rpy="1.2175   -0.077786      1.3837"/>
</sensor>
<!-- Sensor  12-->
<sensor name="RightUpperLeg_gyro" type="gyroscope">
<parent link="RightUpperLeg"/>
<origin xyz="0.012972    -0.04567    -0.26981" rpy="2.8247      1.4102      1.8304"/>
</sensor>
<sensor name="RightUpperLeg_accelerometer" type="accelerometer">
<parent link="RightUpperLeg"/>
<origin xyz="0.012972    -0.04567    -0.26981" rpy="2.8247      1.4102      1.8304"/>
</sensor>
<!-- Sensor  13-->
<sensor name="RightLowerLeg_gyro" type="gyroscope">
<parent link="RightLowerLeg"/>
<origin xyz="0.030805   0.0070514    -0.13253" rpy="-2.9287      1.4733     -1.9582"/>
</sensor>
<sensor name="RightLowerLeg_accelerometer" type="accelerometer">
<parent link="RightLowerLeg"/>
<origin xyz="0.030805   0.0070514    -0.13253" rpy="-2.9287      1.4733     -1.9582"/>
</sensor>
<!-- Sensor  14-->
<sensor name="RightFoot_gyro" type="gyroscope">
<parent link="RightFoot"/>
<origin xyz="0.083701   0.0013928   -0.011817" rpy="0.30301     0.49685    -0.19697"/>
</sensor>
<sensor name="RightFoot_accelerometer" type="accelerometer">
<parent link="RightFoot"/>
<origin xyz="0.083701   0.0013928   -0.011817" rpy="0.30301     0.49685    -0.19697"/>
</sensor>
<!-- Sensor  15-->
<sensor name="LeftUpperLeg_gyro" type="gyroscope">
<parent link="LeftUpperLeg"/>
<origin xyz="0.012973     0.04567    -0.26981" rpy="-2.3214      1.4159     -1.1979"/>
</sensor>
<sensor name="LeftUpperLeg_accelerometer" type="accelerometer">
<parent link="LeftUpperLeg"/>
<origin xyz="0.012973     0.04567    -0.26981" rpy="-2.3214      1.4159     -1.1979"/>
</sensor>
<!-- Sensor  16-->
<sensor name="LeftLowerLeg_gyro" type="gyroscope">
<parent link="LeftLowerLeg"/>
<origin xyz="0.030805  -0.0070515    -0.13253" rpy="-2.6156      1.3817      2.7867"/>
</sensor>
<sensor name="LeftLowerLeg_accelerometer" type="accelerometer">
<parent link="LeftLowerLeg"/>
<origin xyz="0.030805  -0.0070515    -0.13253" rpy="-2.6156      1.3817      2.7867"/>
</sensor>
<!-- Sensor  17-->
<sensor name="LeftFoot_gyro" type="gyroscope">
<parent link="LeftFoot"/>
<origin xyz="0.083701  -0.0013929   -0.011817" rpy="-0.10862      0.4501     0.37976"/>
</sensor>
<sensor name="LeftFoot_accelerometer" type="accelerometer">
<parent link="LeftFoot"/>
<origin xyz="0.083701  -0.0013929   -0.011817" rpy="-0.10862      0.4501     0.37976"/>
</sensor>


</robot>
